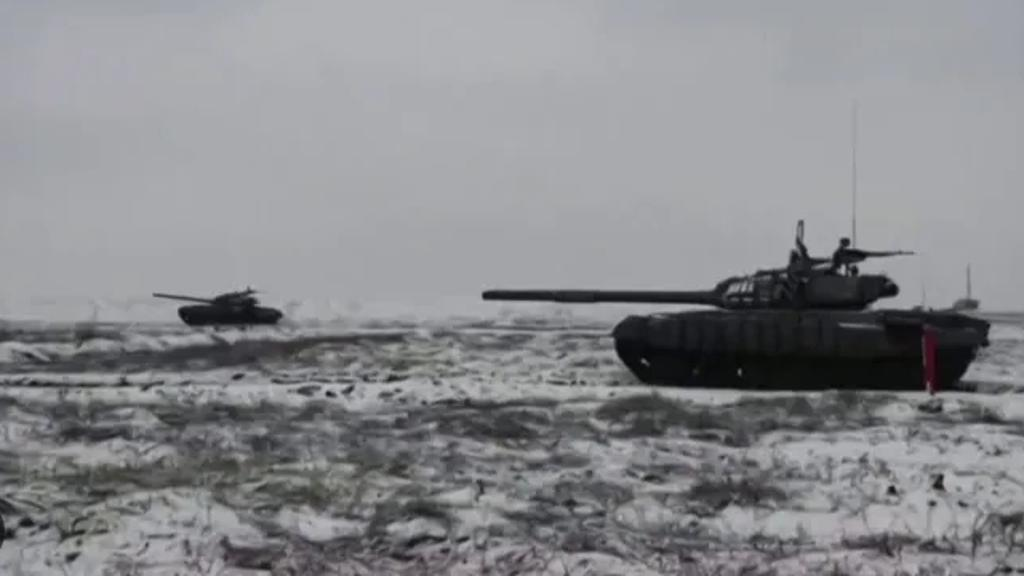TANK: (477, 217, 989, 400), (146, 283, 282, 327)
